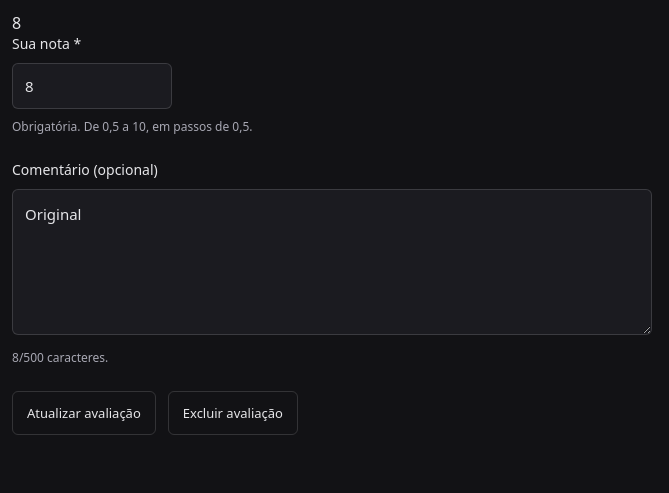
Test: preserva rascunho se exclusão falhar e limpa os campos e foca a nota ao excluir
The width and height of the screenshot is (669, 493).
Replace the text in the text box labelled "Comentário (opcional)" with "Rascunho" at [332, 262], box [12,189,652,335]
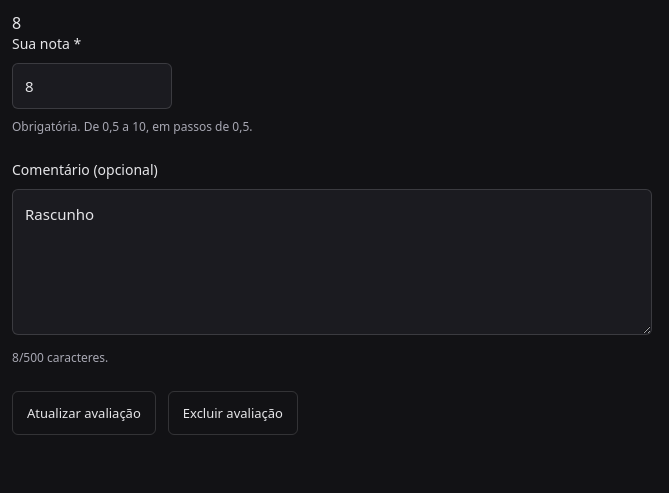
Click the button "Excluir avaliação".
click(233, 413)  # box [168,391,298,435]
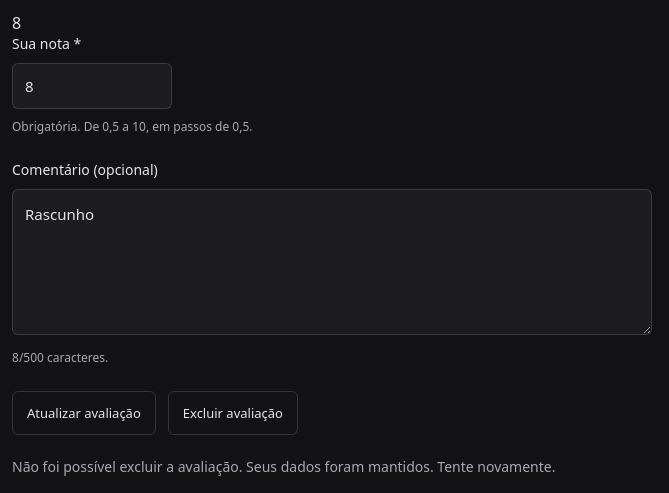
Expected: the text named "Nota salva" reads "8", [12,12,21,34]
Now the message shows "Não foi possível excluir", box [12,457,556,476]
Click the button "Excluir avaliação".
click(233, 413)  # box [168,391,298,435]
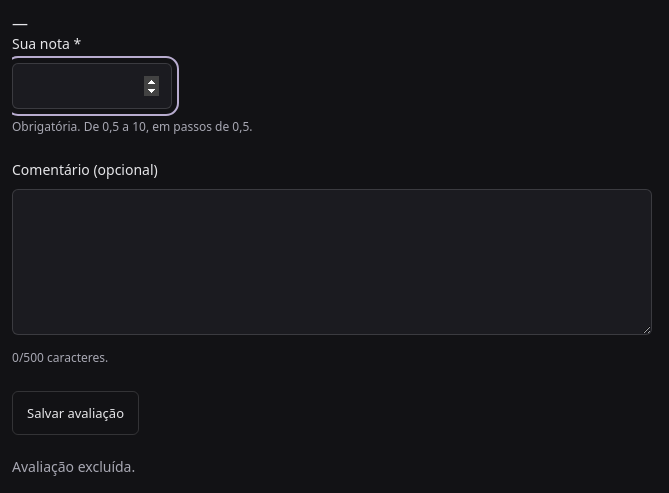
Now the message reads "Avaliação excluída.", box [12,457,135,476]
Now the number field labelled "Sua nota *" is not empty, box [12,63,172,109]
Now the text box labelled "Comentário (opcional)" is empty, box [12,189,652,335]
